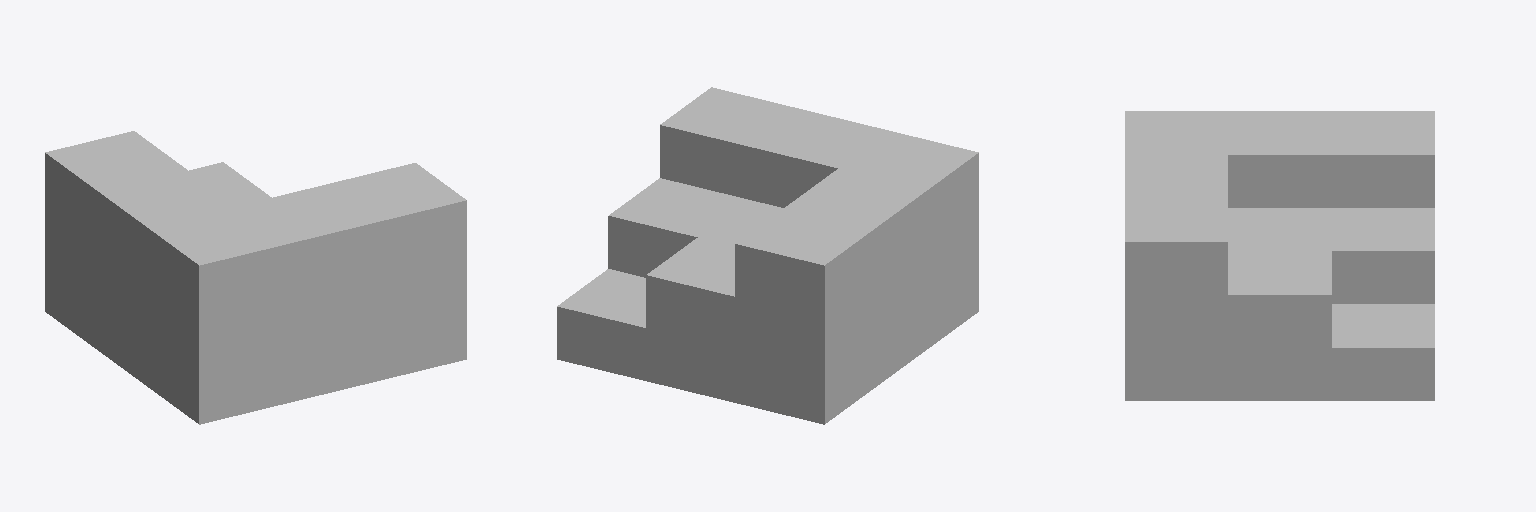
Rendered from spaceInterior_009.obj.
The picture shows the model from 3 angles: view 1: azimuth 30°, elevation 25°; view 2: azimuth 150°, elevation 25°; view 3: azimuth 270°, elevation 25°; orthographic projection.
Parts seen in each view (by area): view 1: Mesh1 Group1 Model; view 2: Mesh1 Group1 Model; view 3: Mesh1 Group1 Model.
Part boxes in pixels (x1,y1,x2,y2): Mesh1 Group1 Model: (45,131,466,424); Mesh1 Group1 Model: (557,87,978,424); Mesh1 Group1 Model: (1125,111,1434,400).
Size of the model in its own units: 0.2475 by 0.1406 by 0.2475.